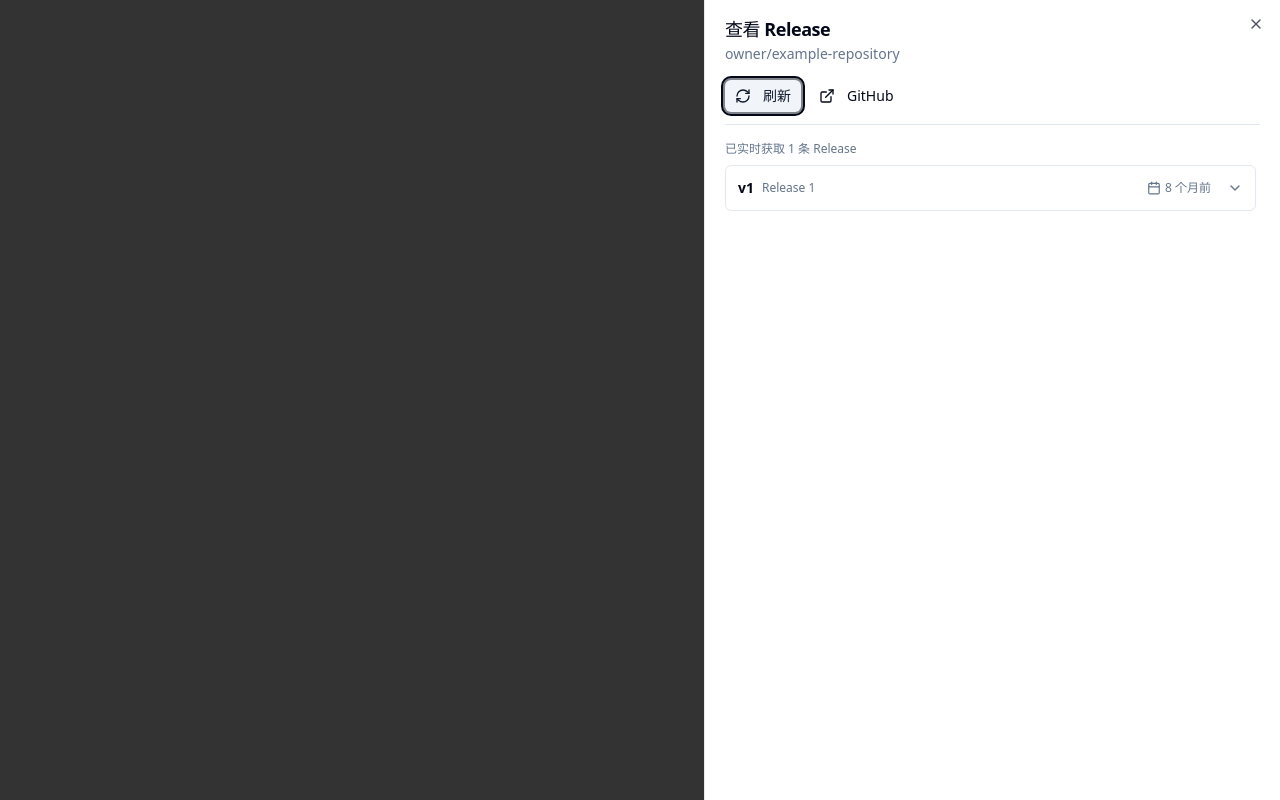
Test: RepositoryReleaseSheet › shows the same platform badges as the Release page for asset icons
The width and height of the screenshot is (1280, 800).
Click the button "v1" at (789, 188), box left=738, top=166, right=1243, bottom=210
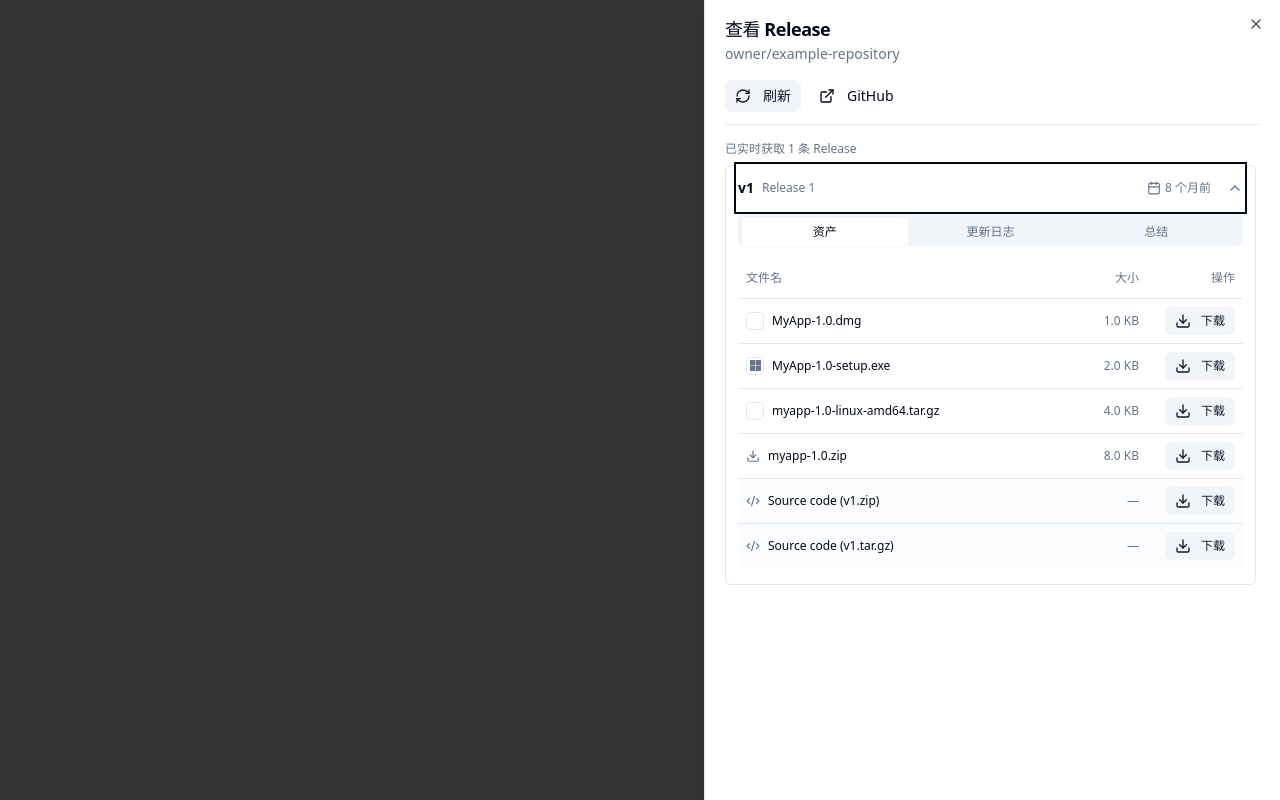
Now the element titled "Windows" is shown, box left=746, top=356, right=764, bottom=374
Now the text "myapp-1.0.zip" is shown, box left=768, top=446, right=847, bottom=464
Now the icon with class "lucide-download" next to "myapp-1.0.zip" is shown, box left=746, top=448, right=760, bottom=462
